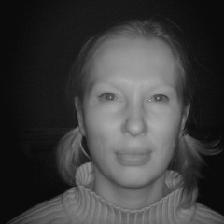normal: (54, 20, 206, 192)
